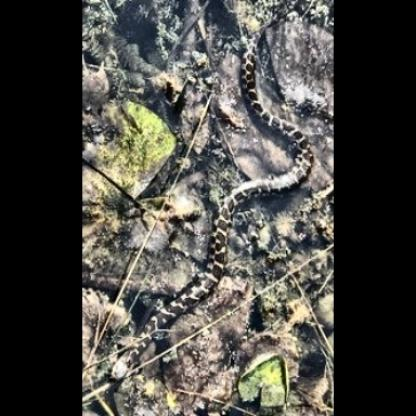Snake: (89, 8, 324, 413)
